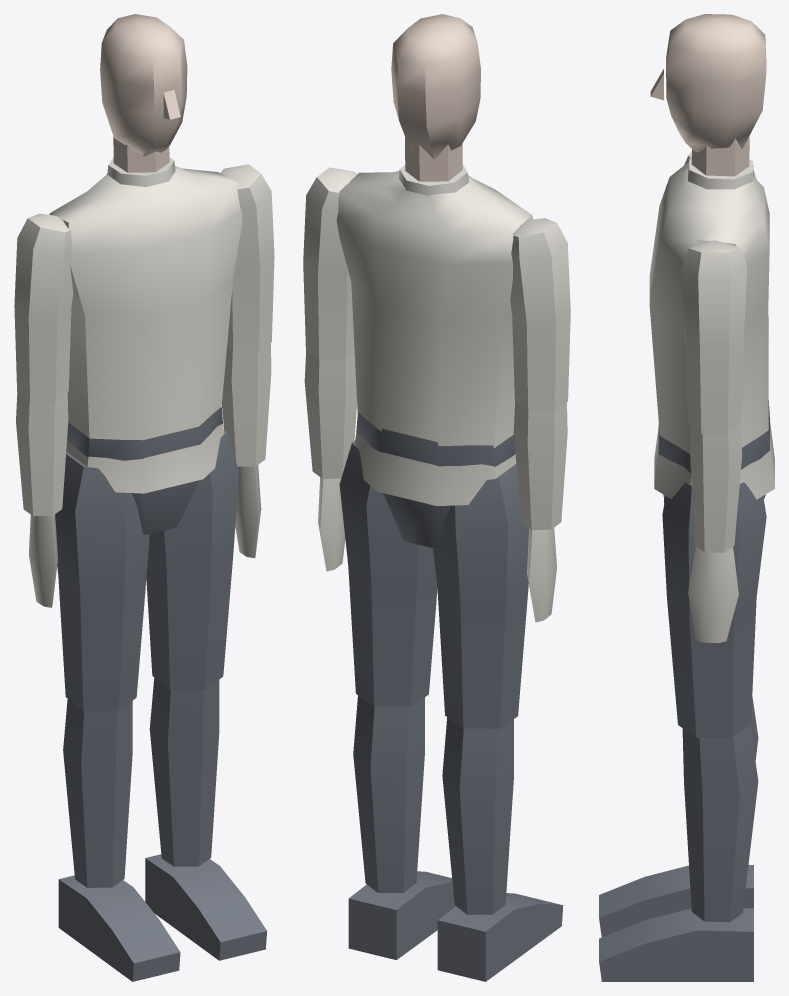
3 views of the same model, side by side, from view 1: azimuth 30°, elevation 25°; view 2: azimuth 150°, elevation 25°; view 3: azimuth 270°, elevation 25° (orthographic). The views are drawn at different scales.
Parts seen in each view (by area): view 1: torso, shin_r, shin_l, leg_r, leg_l, head, arm_r, forearm_r, arm_l, forearm_l, hips; view 2: torso, leg_r, shin_r, shin_l, leg_l, head, arm_r, forearm_r, arm_l, forearm_l, hips; view 3: torso, shin_l, leg_l, head, arm_l, forearm_l, shin_r, hips.
Part boxes in pixels (x1,y1,x2,y2): torso: (49,157,242,493); shin_r: (58,699,180,981); shin_l: (145,677,266,960); leg_r: (55,452,149,710); leg_l: (146,430,238,689); head: (100,14,187,172); arm_r: (14,213,73,401); forearm_r: (16,392,68,607); arm_l: (220,164,274,351); forearm_l: (222,343,271,558); hips: (67,407,222,534); torso: (336,164,533,506); leg_r: (433,464,528,728); shin_r: (437,717,563,981); shin_l: (348,695,455,959); leg_l: (339,440,437,706); head: (391,14,480,181); arm_r: (510,218,570,410); forearm_r: (513,401,567,622); arm_l: (303,167,357,359); forearm_l: (304,350,357,571); hips: (356,412,515,548); torso: (649,158,774,499); shin_l: (599,724,758,981); leg_l: (662,482,766,737); head: (650,14,766,176); arm_l: (681,240,747,433); forearm_l: (688,424,742,643); shin_r: (599,697,758,937); hips: (658,400,769,498).
Size of the model in its own units: 0.5277 by 1.85 by 0.3175.
